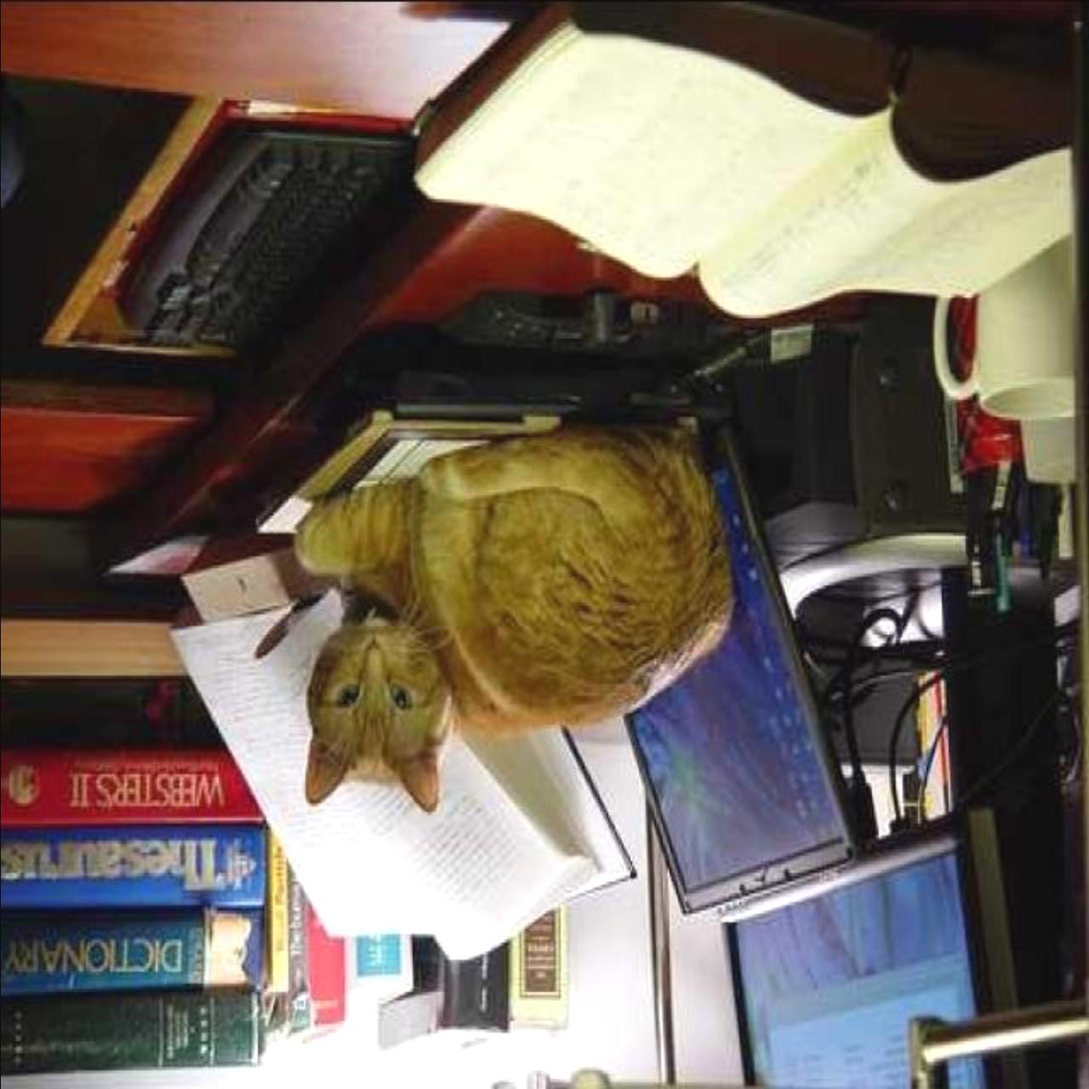laptop: (213, 327, 842, 878)
